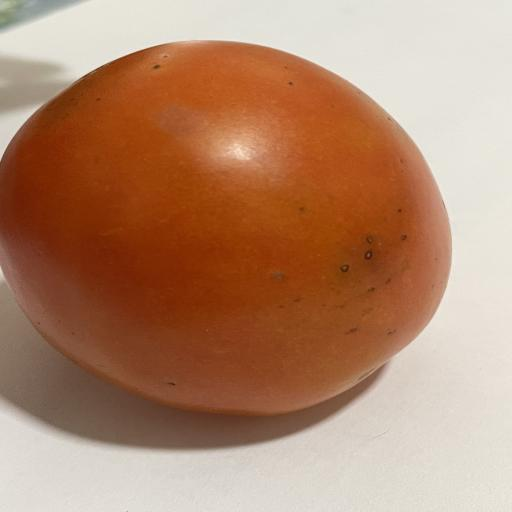ripe: (0, 41, 451, 414)
